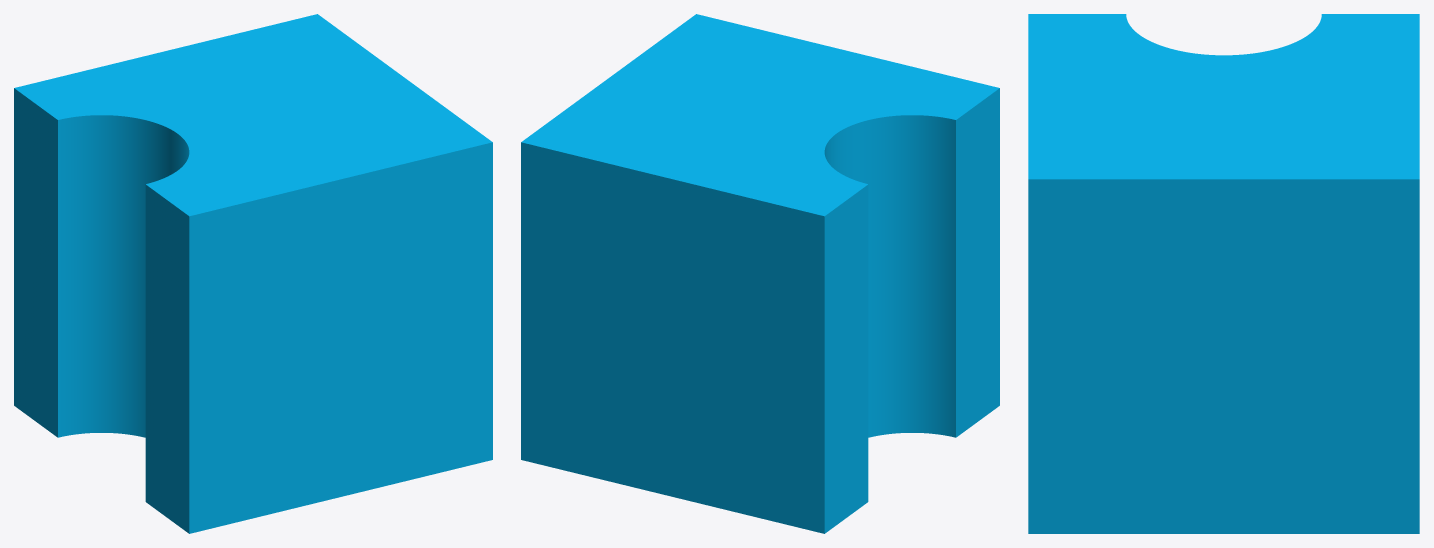
File: cut_and_cutThruAll_2.gltf
The picture shows the model from 3 angles, left to right: view 1: azimuth 30°, elevation 25°; view 2: azimuth 150°, elevation 25°; view 3: azimuth 270°, elevation 25°; orthographic projection. The views are drawn at different scales.
Visible parts, largest first — view 1: Gövde; view 2: Gövde; view 3: Gövde.
Part boxes in pixels (left/top/right/bottom): Gövde: left=14, top=14, right=492, bottom=533; Gövde: left=521, top=14, right=999, bottom=533; Gövde: left=1028, top=14, right=1419, bottom=533.
Bounding box in the file's own units: 0.02 × 0.02 × 0.02.
